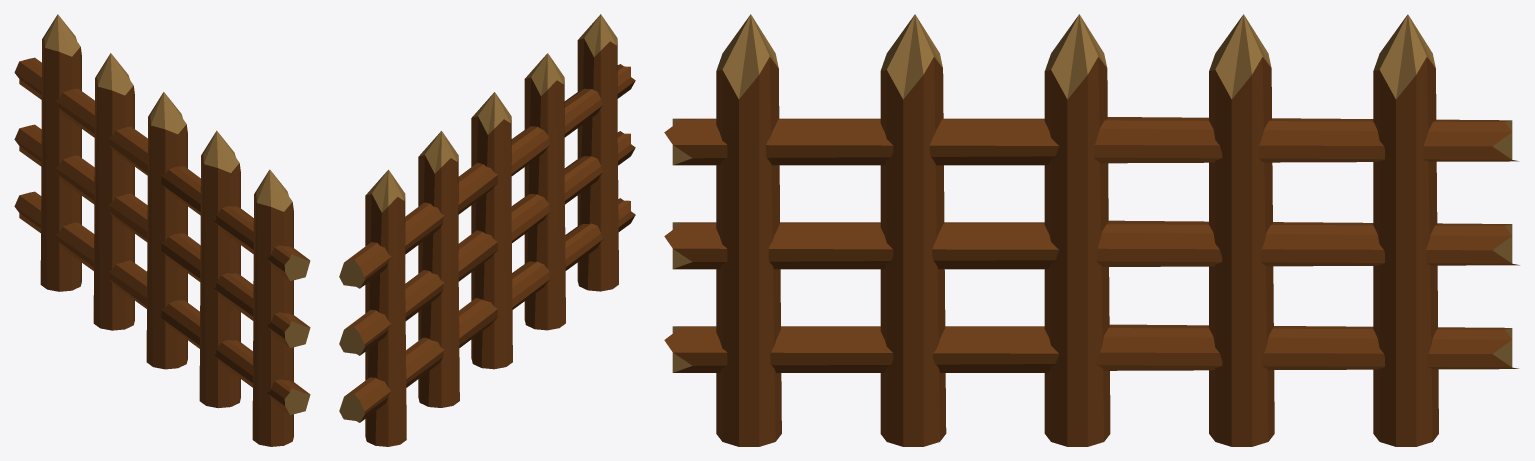
The model's file is fence.fbx.
3 views of the same model, side by side, from view 1: azimuth 30°, elevation 25°; view 2: azimuth 150°, elevation 25°; view 3: azimuth 270°, elevation 25° (orthographic). The views are drawn at different scales.
Visible parts, largest first — view 1: Cylinder, Cylinder.001; view 2: Cylinder, Cylinder.001; view 3: Cylinder, Cylinder.001.
Boxes of the visible parts, x1,y1,x2,y2 form: Cylinder: (40, 14, 293, 446); Cylinder.001: (14, 57, 310, 414); Cylinder: (365, 14, 618, 446); Cylinder.001: (339, 64, 635, 422); Cylinder: (716, 14, 1438, 446); Cylinder.001: (664, 117, 1519, 372).
Bounding box in the file's own units: 0.1594 × 2.18 × 1.18.
